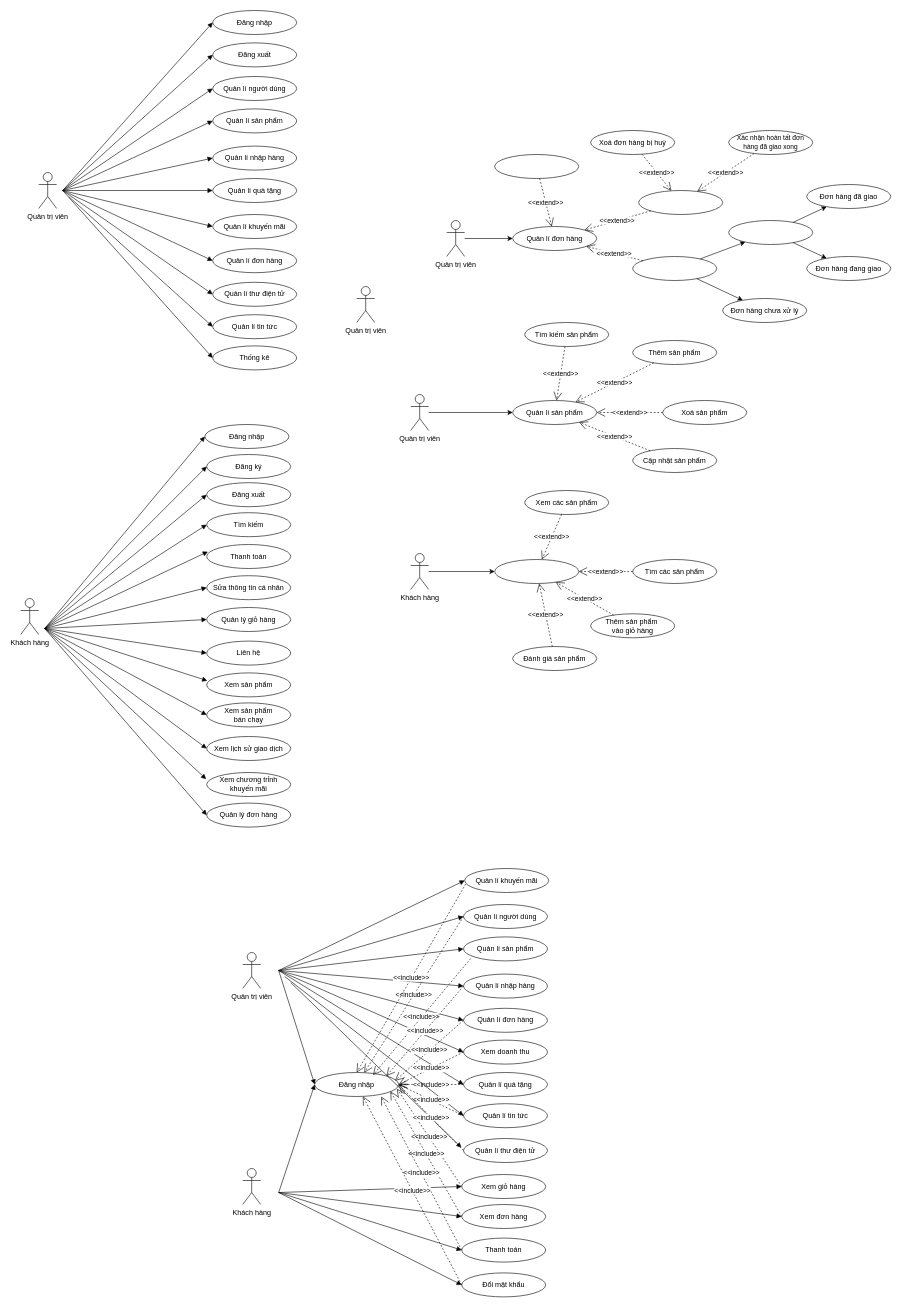
Some shapes in this 901 by 1307 pixel diagram are drawn without their labels. Each missing label, with the centre of its shape:
Cập nhật đơn hàng: the point at 680,202
Phân loại đơn hàng: the point at 674,268
Tìm kiếm đơn hàng: the point at 536,166
Đơn hàng đã xử lý: the point at 770,232
Đặt mua sản phẩm: the point at 536,571
